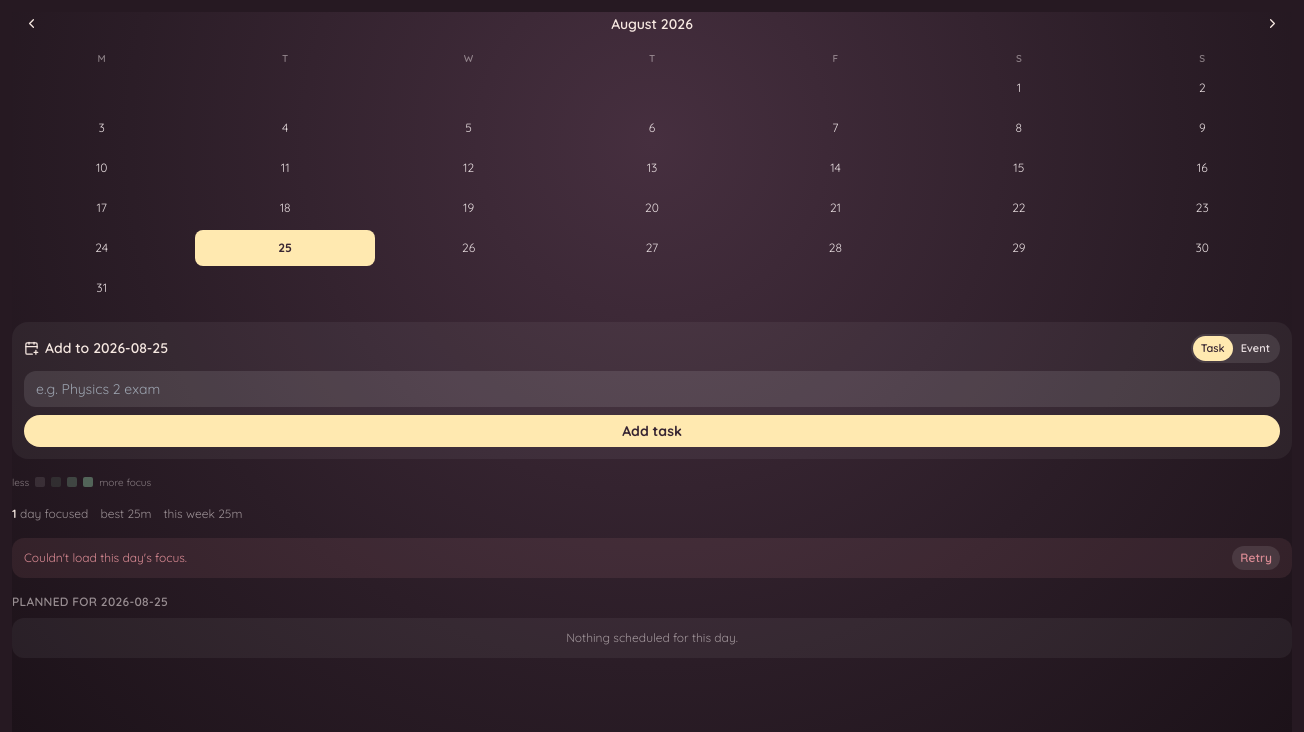
it: calendar focus journal › shows a failed history lookup and retries it
Check: the text "Couldn't load this day's focus." is shown, box left=24, top=550, right=187, bottom=566
Click the button "Retry": (1256, 558) left=1232, top=546, right=1280, bottom=570
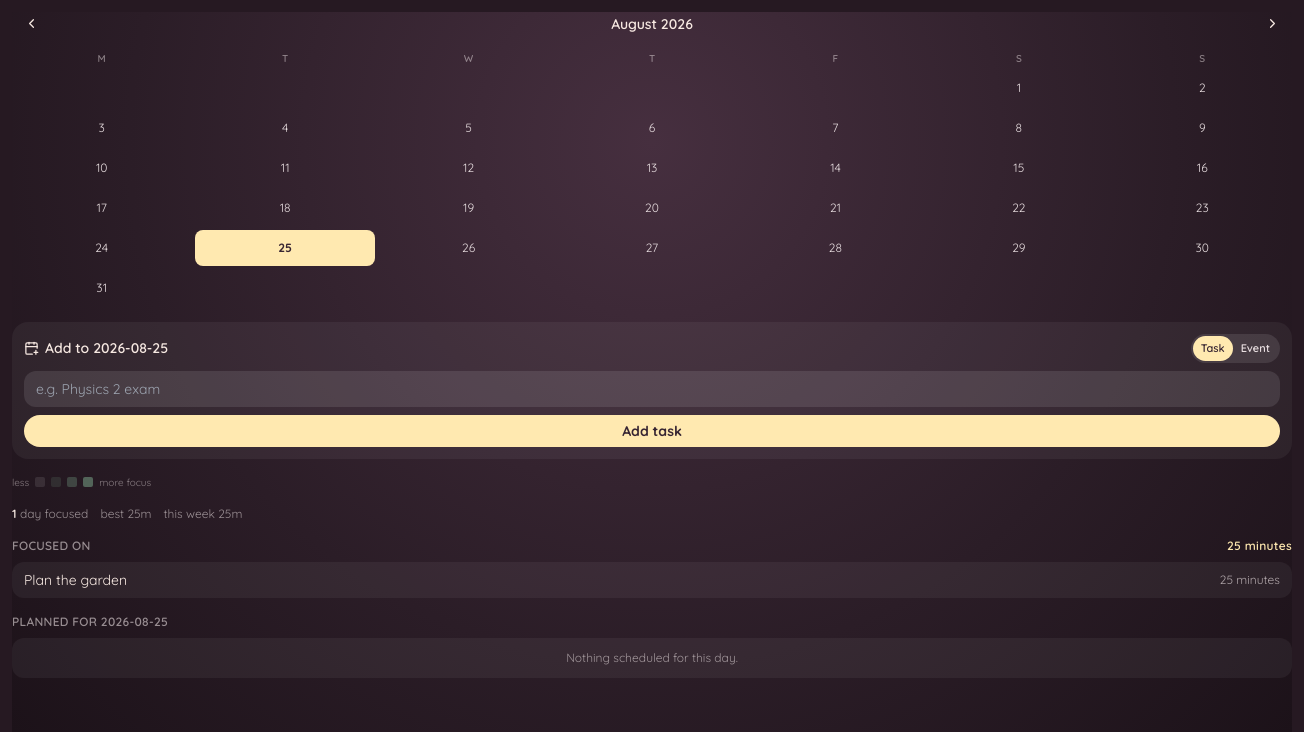
Check: the text "Plan the garden" is shown, box left=24, top=570, right=127, bottom=588
